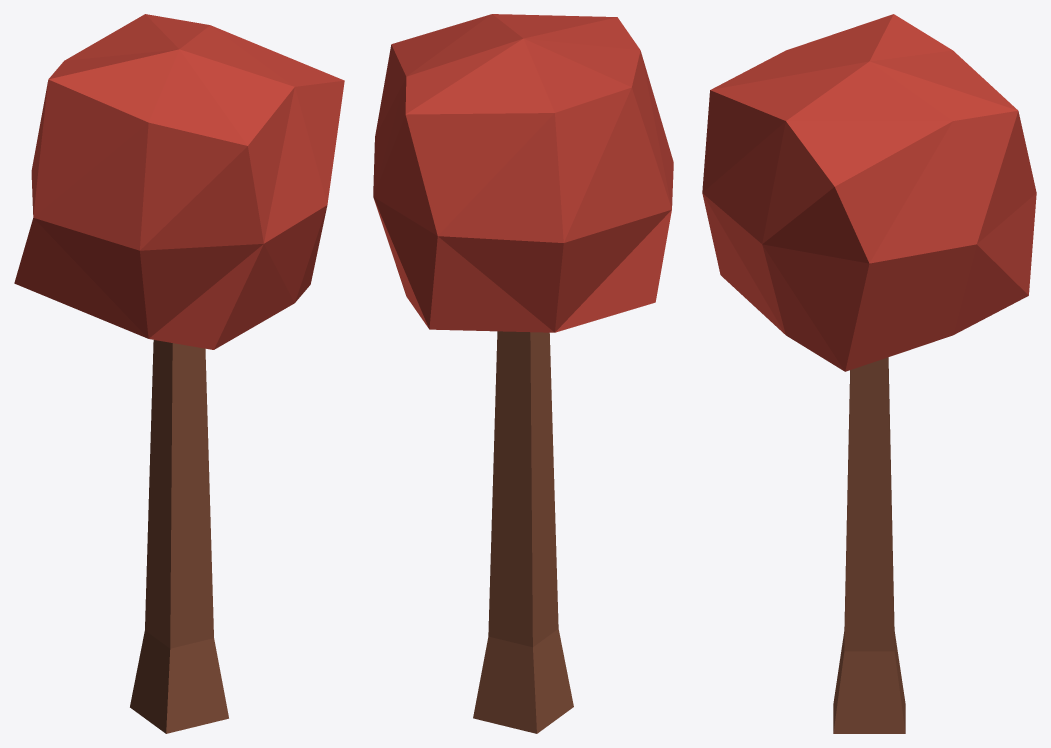
The model's file is Tree_42_summer_red_mat.fbx.
3 renders of one model, left to right at view 1: azimuth 30°, elevation 25°; view 2: azimuth 150°, elevation 25°; view 3: azimuth 270°, elevation 25°, orthographic. The views are drawn at different scales.
Parts seen in each view (by area): view 1: Tree_42_summer_red_mat; view 2: Tree_42_summer_red_mat; view 3: Tree_42_summer_red_mat.
Part boxes in pixels (bbox=[...]): Tree_42_summer_red_mat: bbox=[14, 14, 344, 733]; Tree_42_summer_red_mat: bbox=[373, 14, 673, 733]; Tree_42_summer_red_mat: bbox=[702, 14, 1036, 733].
Size of the model in its own units: 98.78 by 212 by 97.79.
